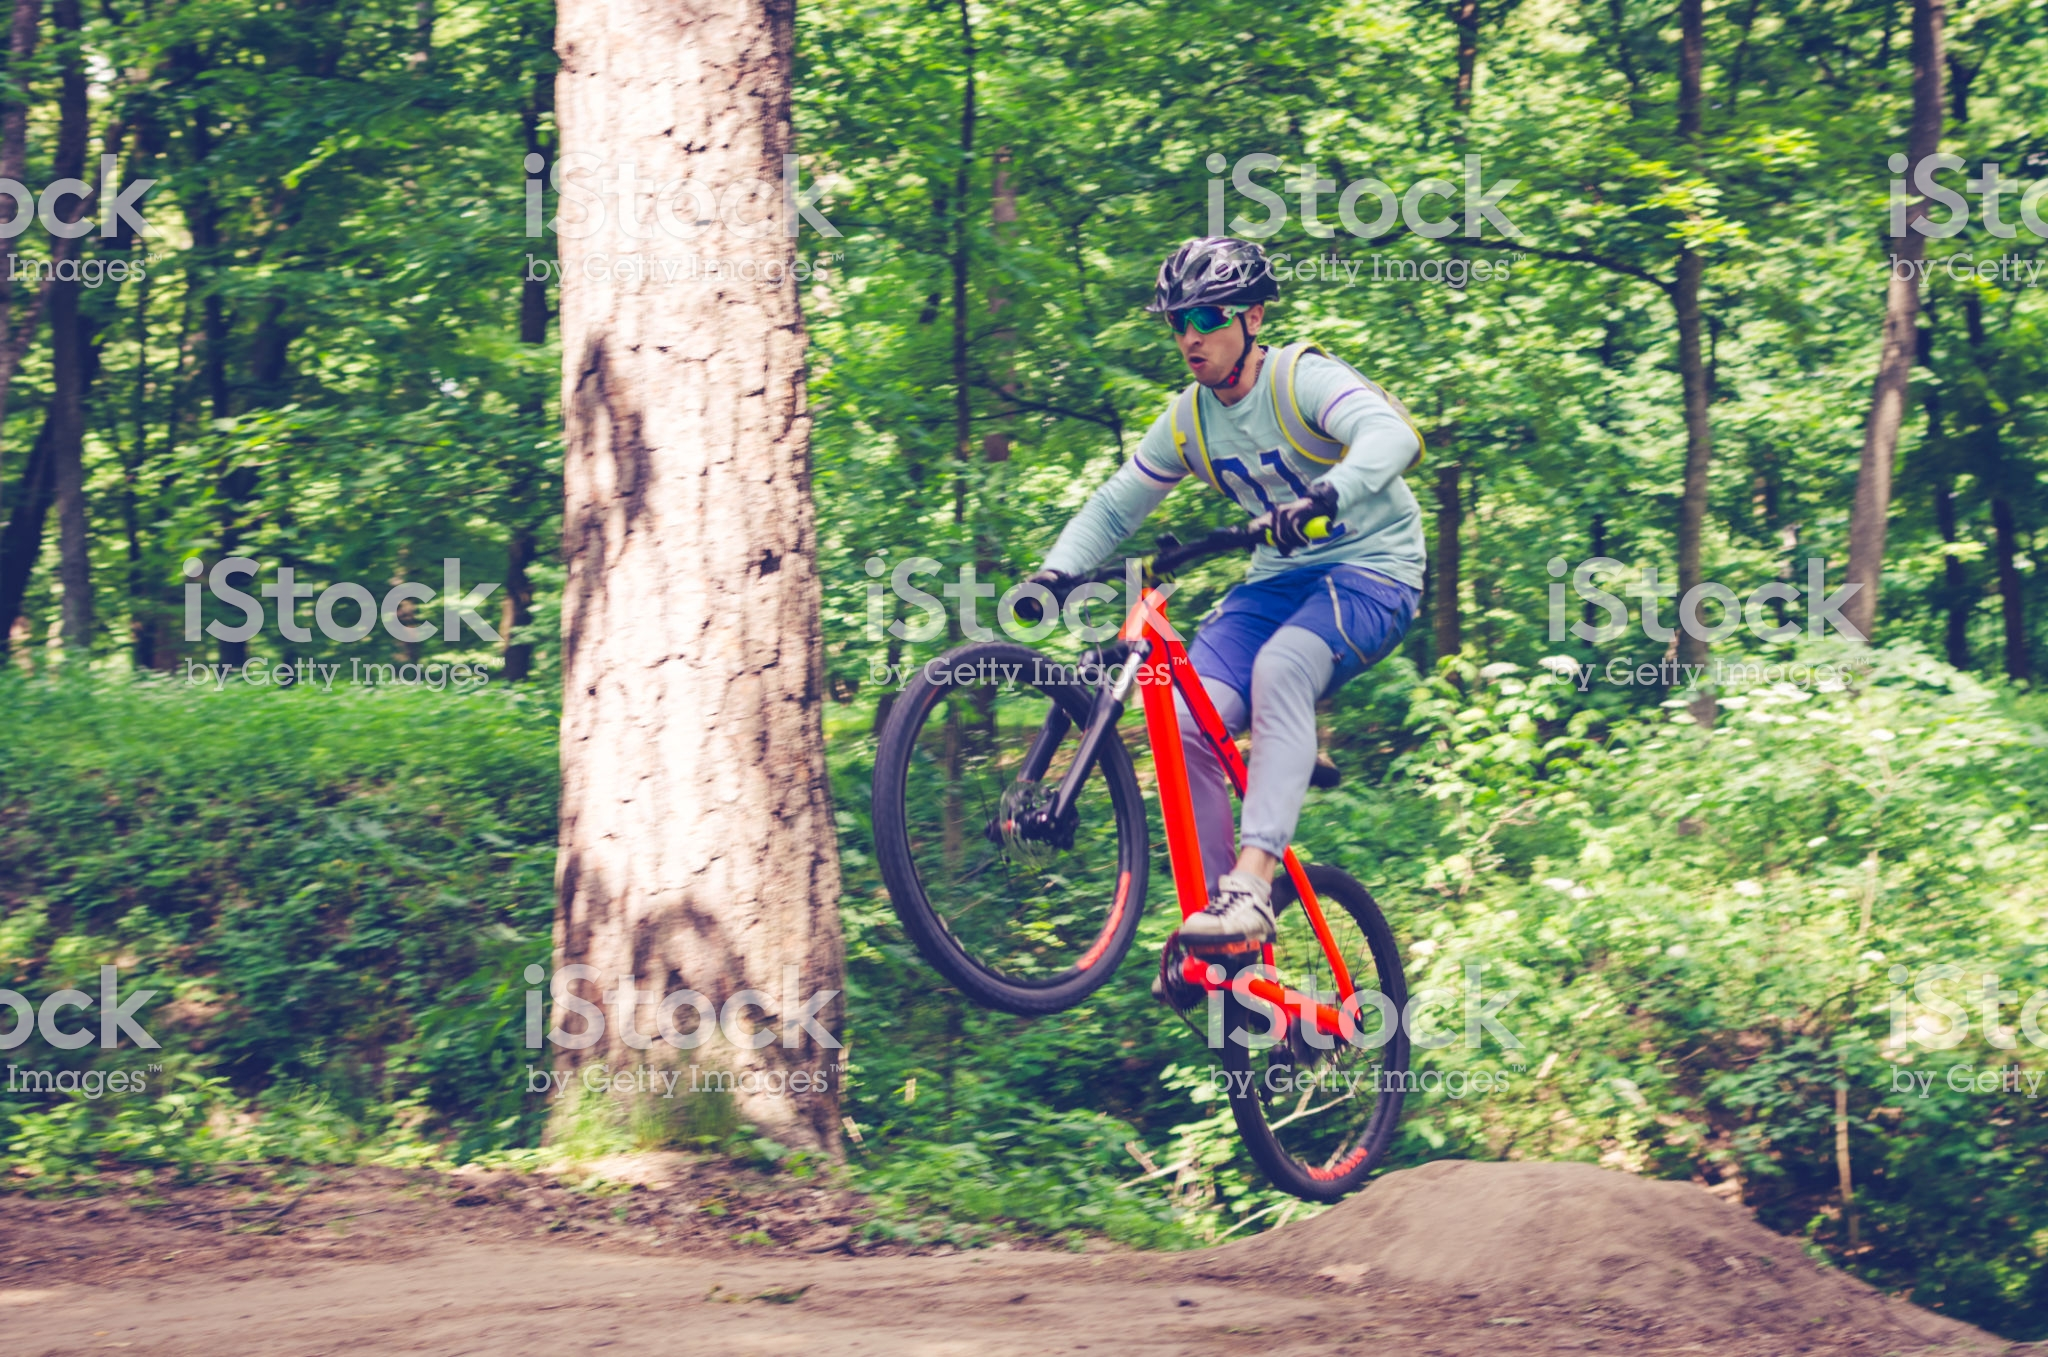helmet: (1163, 223, 1279, 320)
